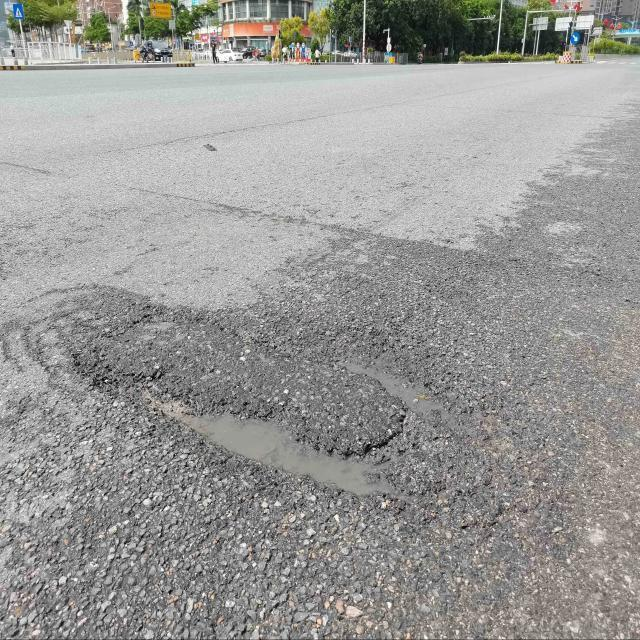Pothole: (72, 348, 477, 507)
